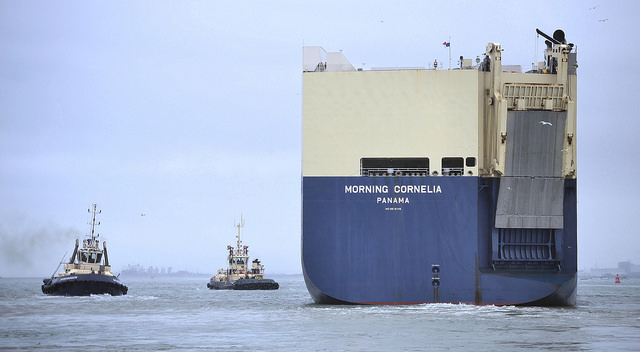PCC: (295, 33, 592, 316)
tug_boat: (38, 200, 139, 300), (206, 216, 283, 300)
